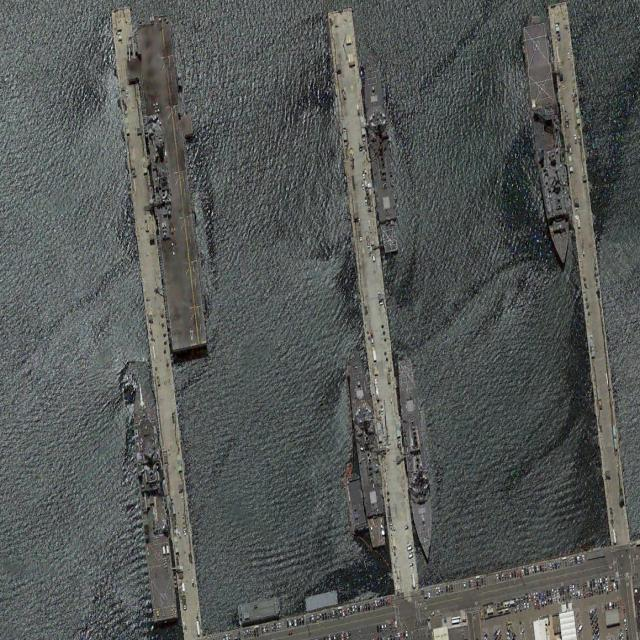Destroyer: (521, 19, 578, 269), (343, 344, 392, 549), (359, 48, 403, 255), (394, 355, 436, 562)
Landing: (121, 12, 220, 354), (125, 378, 179, 622)
